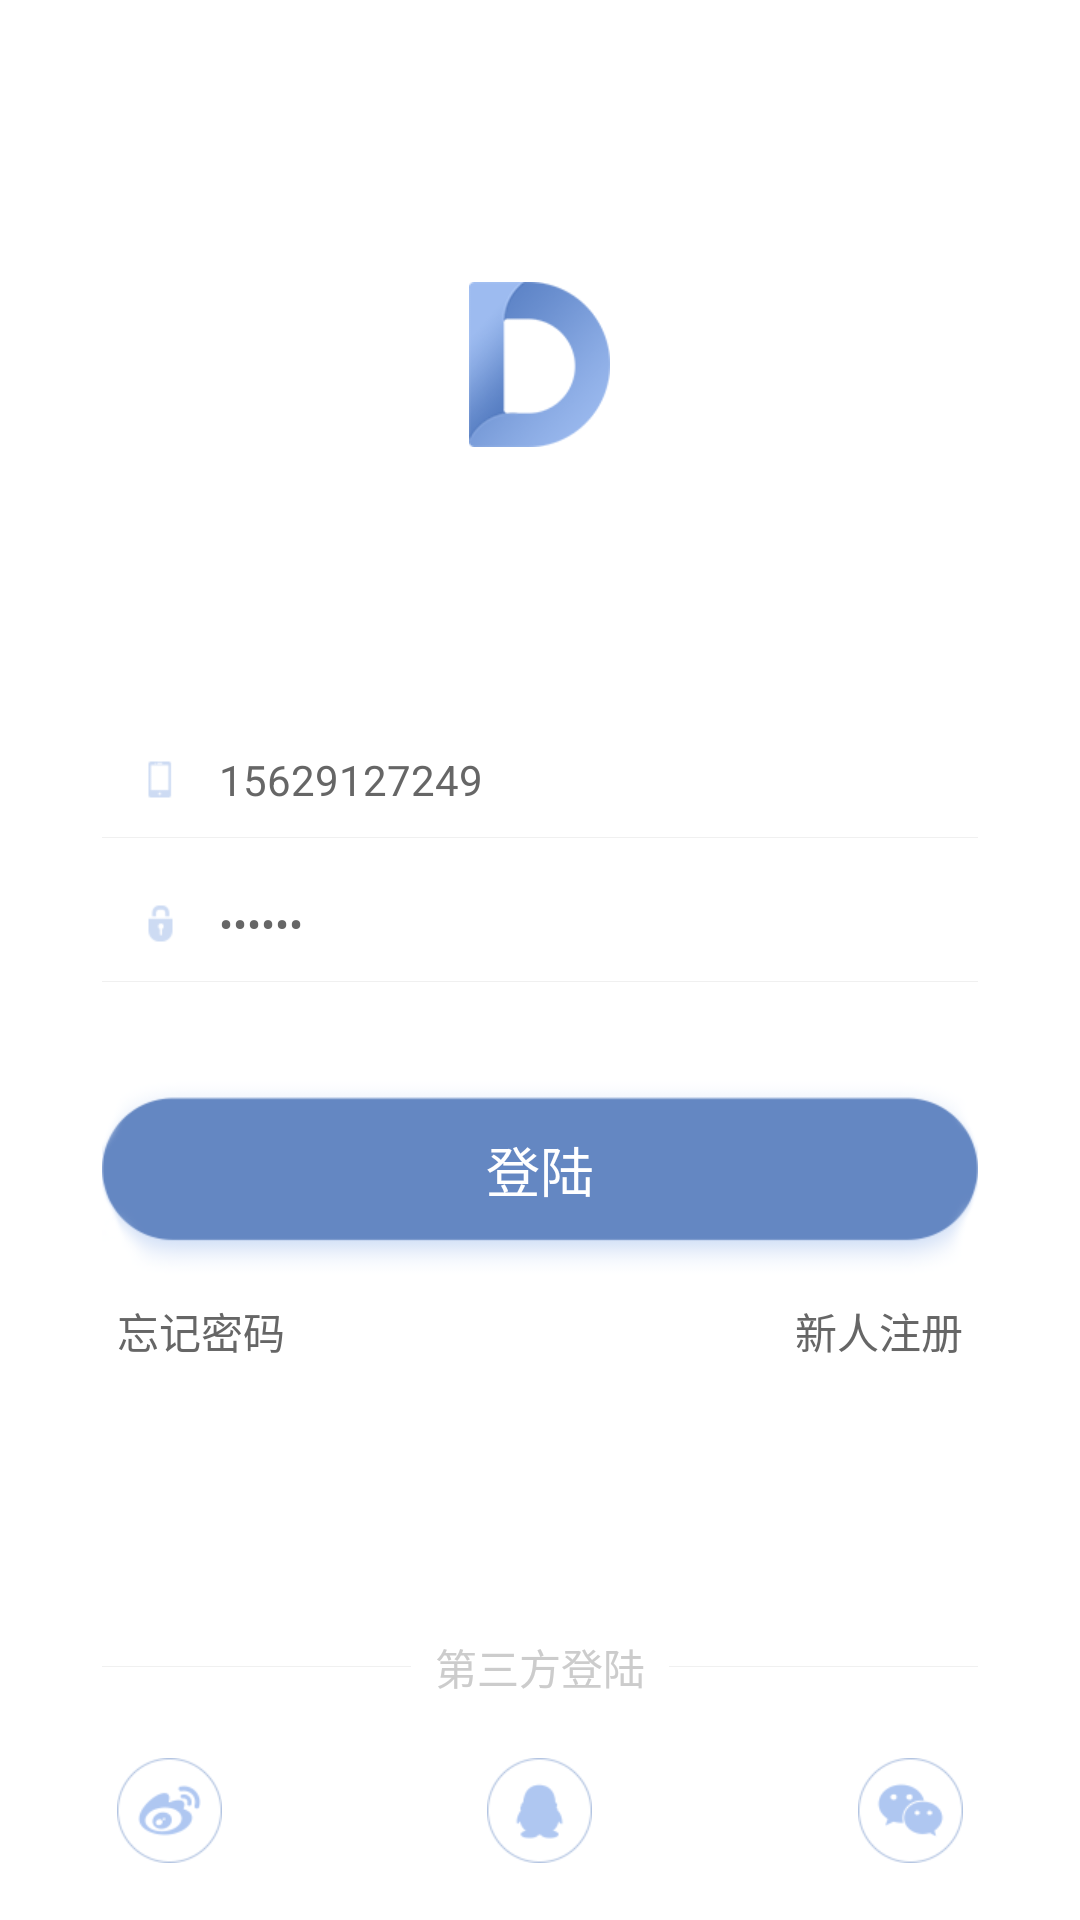

Icon click points for this 1080px×1920px phone screenshot, format (x,y):
mima: (160,923)
shouji: (159,779)
